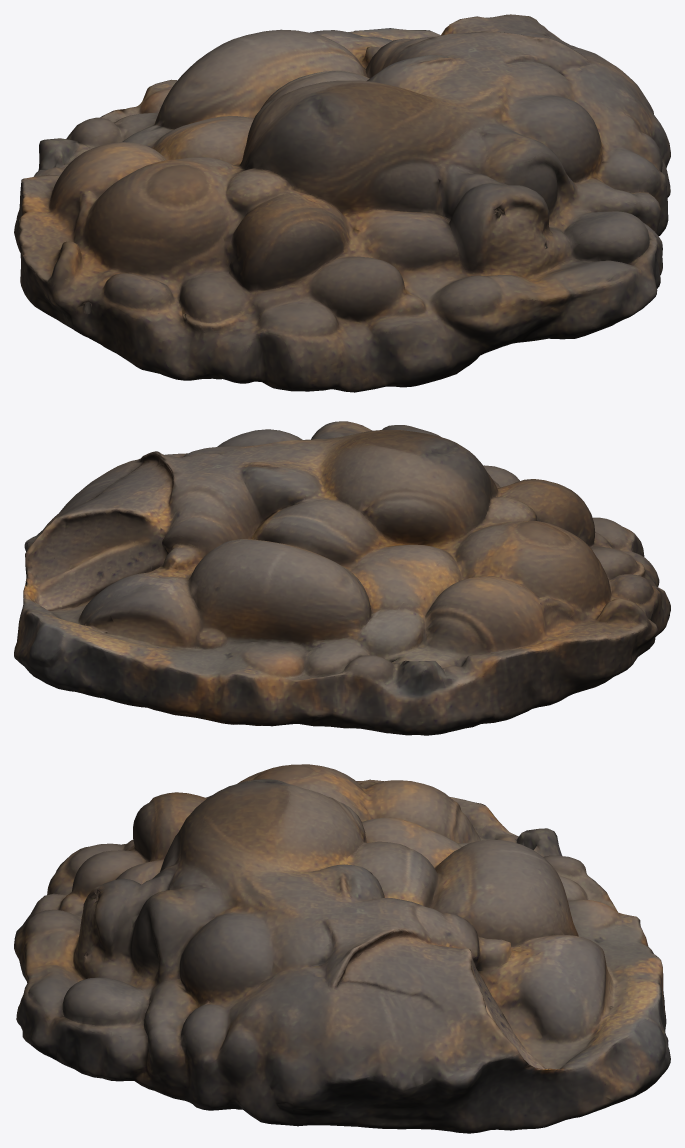
The picture shows the model from 3 angles, top to bottom: view 1: azimuth 30°, elevation 25°; view 2: azimuth 150°, elevation 25°; view 3: azimuth 270°, elevation 25°; orthographic projection. The views are drawn at different scales.
Visible parts, largest first — view 1: geometry_0; view 2: geometry_0; view 3: geometry_0.
Boxes of the visible parts, x1,y1,x2,y2 form: geometry_0: (14, 14, 670, 392); geometry_0: (14, 421, 670, 735); geometry_0: (14, 764, 670, 1133).
Size of the model in its own units: 0.95 by 0.2839 by 0.872.
1 material, 1 textured.
